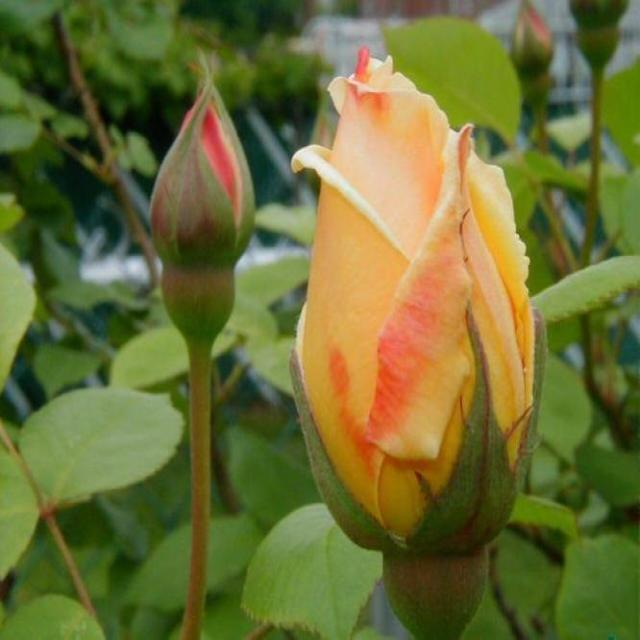rose: (293, 43, 563, 640), (116, 58, 290, 384)
